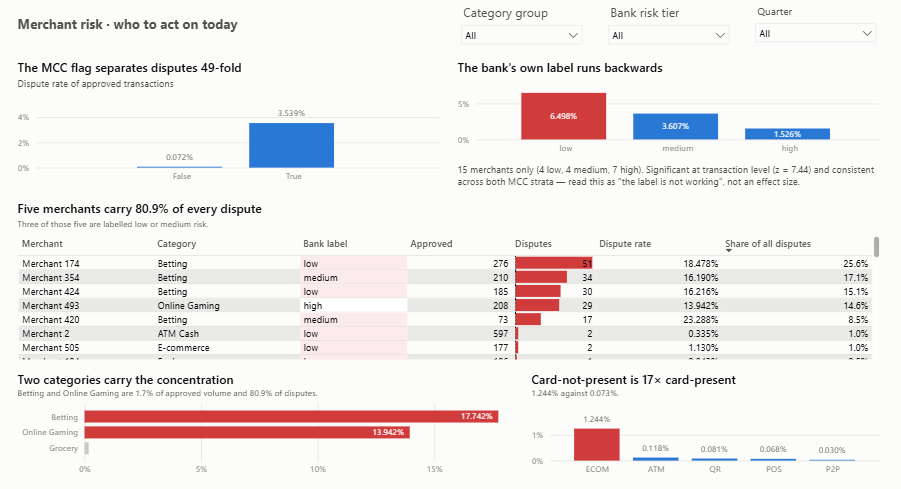

The page's visual inventory and layout, read from the dashboard file:
{"tool":"powerbi","page":{"name":"Merchant risk","canvas":[1280,720],"ordinal":1},"visuals":[{"type":"textbox","box":[24,39,400,32],"z":0},{"type":"slicer","fields":{"Values":["uzcard dim_merchant.category_group"]},"box":[648,24,192,62],"z":1000},{"type":"slicer","fields":{"Values":["uzcard dim_merchant.bank_risk_tier"]},"box":[856,24,192,62],"z":2000},{"type":"slicer","fields":{"Values":["uzcard dim_date.quarter_name"]},"box":[1064,24,192,62],"z":3000},{"type":"clusteredColumnChart","title":"The MCC flag separates disputes 49-fold","fields":{"Category":["uzcard dim_merchant.mcc_high_risk"],"Y":["uzcard fact_transactions.Dispute rate"]},"box":[24,102,608,184],"z":4000},{"type":"clusteredColumnChart","title":"The bank''s own label runs backwards","fields":{"Category":["uzcard dim_merchant.bank_risk_tier"],"Y":["uzcard fact_transactions.Dispute rate"]},"box":[648.4,102,608,144],"z":5000},{"type":"textbox","box":[648.4,250,608,36],"z":6000},{"type":"tableEx","title":"Five merchants carry 80.9% of every dispute","fields":{"Values":["uzcard dim_merchant.merchant_name","uzcard dim_merchant.category_name","uzcard dim_merchant.bank_risk_tier","uzcard fact_transactions.Approved","uzcard fact_transactions.Disputes","uzcard fact_transactions.Dispute rate","uzcard fact_transactions.Dispute share"]},"box":[24.1,302.2,1232,226],"z":7000},{"type":"clusteredBarChart","title":"Two categories carry the concentration","fields":{"Y":["uzcard fact_transactions.Dispute rate"],"Category":["uzcard dim_merchant.category_name"]},"box":[24,544,712,152],"z":8000},{"type":"clusteredColumnChart","title":"\tCard-not-present is 17× card-present","fields":{"Category":["uzcard dim_terminal.channel"],"Y":["uzcard fact_transactions.Dispute rate"]},"box":[752,544,504,152],"z":9000}]}

Visuals, with their boxes on the page's 1280x720 design canvas (x1, y1, x2, y2). These are canvas units, not pixel positions in the 901x489 screenshot, which may show the page scaled, cropped or inside an application window:
textbox: x1=24, y1=39, x2=424, y2=71
slicer - uzcard dim_merchant.category_group: x1=648, y1=24, x2=840, y2=86
slicer - uzcard dim_merchant.bank_risk_tier: x1=856, y1=24, x2=1048, y2=86
slicer - uzcard dim_date.quarter_name: x1=1064, y1=24, x2=1256, y2=86
"The MCC flag separates disputes 49-fold" clusteredColumnChart: x1=24, y1=102, x2=632, y2=286
"The bank''s own label runs backwards" clusteredColumnChart: x1=648, y1=102, x2=1256, y2=246
textbox: x1=648, y1=250, x2=1256, y2=286
"Five merchants carry 80.9% of every dispute" tableEx: x1=24, y1=302, x2=1256, y2=528
"Two categories carry the concentration" clusteredBarChart: x1=24, y1=544, x2=736, y2=696
"	Card-not-present is 17× card-present" clusteredColumnChart: x1=752, y1=544, x2=1256, y2=696
